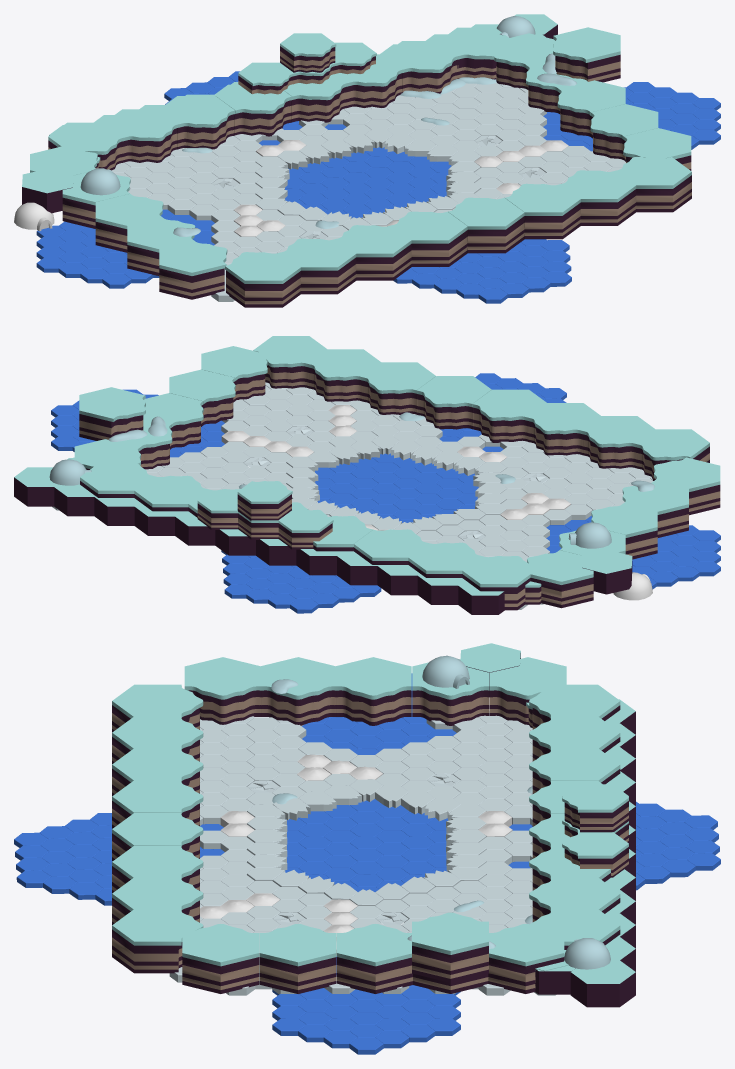
Rendered from Blocagem_Cenario_Neve_Montado.fbx.
3 views of the same model, one above another, from view 1: azimuth 30°, elevation 25°; view 2: azimuth 150°, elevation 25°; view 3: azimuth 270°, elevation 25° (orthographic). The views are drawn at different scales.
Parts seen in each view (by area): view 1: Tile_Water.001, Tile_Water.003, Tile_Water.006, Tile_Water.004, Tile_Water.002, Tile_Decor_Borda_2.017, Tile_Decor_Borda_2.030, Tile_Decor_Borda_2.013, Tile_Decor_Borda_2.011, Tile_Decor_Borda_2.001, Tile_Decor_Borda_2.014, Tile_Decor_Borda_2.016 (+30 smaller); view 2: Tile_Water.001, Tile_Water.003, Tile_Water.005, Tile_Water.004, Tile_Decor_Borda_2.011, Tile_Decor_Borda_2.013, Tile_Decor_Borda_2.014, Tile_Decor_Borda_2.001, Tile_Decor_Borda_2.022, Tile_Decor_Borda_2.015, Tile_Decor_Borda_2.018, Tile_Decor_Borda_2.019 (+39 smaller); view 3: Tile_Water.001, Tile_Water.003, Tile_Water.002, Tile_Water.006, Tile_Water.005, Tile_Decor_Borda_2.023, Tile_Decor_Borda_2.024, Tile_Decor_Borda_2.011, Tile_Decor_Borda_2.020, Tile_Decor_Borda_2.025, Tile_Decor_Borda_2.016, Tile_Decor_Borda_2.029 (+28 smaller).
Boxes of the visible parts, <box> form: Tile_Water.001: <box>112,82,625,301</box>; Tile_Water.003: <box>285,147,451,218</box>; Tile_Water.006: <box>393,239,571,303</box>; Tile_Water.004: <box>36,209,214,288</box>; Tile_Water.002: <box>543,82,720,151</box>; Tile_Decor_Borda_2.017: <box>225,252,300,307</box>; Tile_Decor_Borda_2.030: <box>159,240,227,299</box>; Tile_Decor_Borda_2.013: <box>448,197,524,253</box>; Tile_Decor_Borda_2.011: <box>553,27,620,82</box>; Tile_Decor_Borda_2.001: <box>505,183,580,239</box>; Tile_Decor_Borda_2.014: <box>391,211,467,266</box>; Tile_Decor_Borda_2.016: <box>615,157,691,212</box>; Tile_Water.001: <box>52,382,653,609</box>; Tile_Water.003: <box>315,453,478,522</box>; Tile_Water.005: <box>221,550,381,613</box>; Tile_Water.004: <box>546,516,720,589</box>; Tile_Decor_Borda_2.011: <box>79,387,145,440</box>; Tile_Decor_Borda_2.013: <box>416,376,491,429</box>; Tile_Decor_Borda_2.014: <box>472,389,546,442</box>; Tile_Decor_Borda_2.001: <box>361,362,435,414</box>; Tile_Decor_Borda_2.022: <box>527,550,593,608</box>; Tile_Decor_Borda_2.015: <box>307,349,381,401</box>; Tile_Decor_Borda_2.018: <box>581,416,655,468</box>; Tile_Decor_Borda_2.019: <box>527,403,600,455</box>; Tile_Water.001: <box>169,711,556,995</box>; Tile_Water.003: <box>285,799,448,891</box>; Tile_Water.002: <box>272,956,460,1054</box>; Tile_Water.006: <box>14,813,224,905</box>; Tile_Water.005: <box>508,801,720,890</box>; Tile_Decor_Borda_2.023: <box>259,924,336,993</box>; Tile_Decor_Borda_2.024: <box>182,924,259,993</box>; Tile_Decor_Borda_2.011: <box>412,912,488,982</box>; Tile_Decor_Borda_2.020: <box>334,657,411,725</box>; Tile_Decor_Borda_2.025: <box>337,924,412,993</box>; Tile_Decor_Borda_2.016: <box>112,909,203,973</box>; Tile_Decor_Borda_2.029: <box>259,657,336,725</box>.
Size of the model in its own units: 5361 by 499 by 4115.
